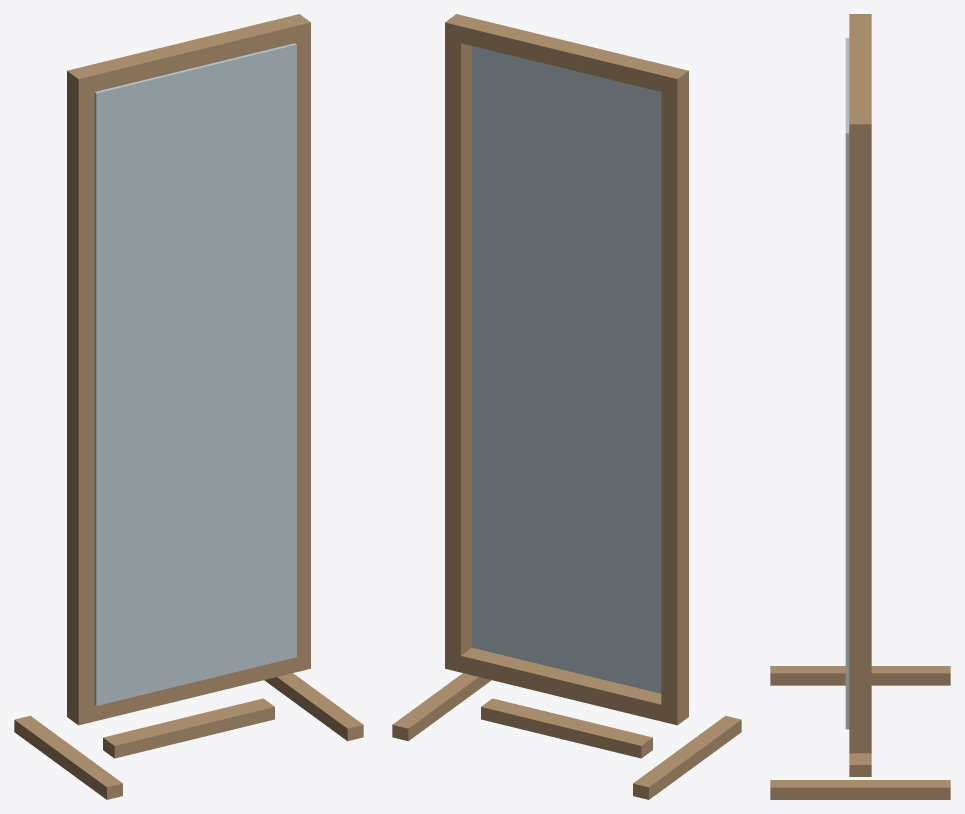
Rendered from standing-mirror.glb.
3 views of the same model, side by side, from view 1: azimuth 30°, elevation 25°; view 2: azimuth 150°, elevation 25°; view 3: azimuth 270°, elevation 25° (orthographic). The views are drawn at different scales.
Visible parts, largest first — view 1: standing-mirror_Cube.007, standing-mirror_Cube.003, standing-mirror_Cube.004, standing-mirror_Cube.005, standing-mirror_Cube, standing-mirror_Cube.006, standing-mirror_Cube.001, standing-mirror_Cube.002; view 2: standing-mirror_Cube.007, standing-mirror_Cube.003, standing-mirror_Cube.004, standing-mirror_Cube.005, standing-mirror_Cube.006, standing-mirror_Cube, standing-mirror_Cube.001, standing-mirror_Cube.002; view 3: standing-mirror_Cube.004, standing-mirror_Cube.002, standing-mirror_Cube.007, standing-mirror_Cube.001, standing-mirror_Cube.005, standing-mirror_Cube.
Part boxes in pixels (x1,y1,x2,y2): standing-mirror_Cube.007: (94, 43, 296, 705); standing-mirror_Cube.003: (67, 88, 94, 725); standing-mirror_Cube.004: (295, 39, 310, 672); standing-mirror_Cube.005: (67, 14, 310, 95); standing-mirror_Cube: (103, 698, 274, 758); standing-mirror_Cube.006: (94, 657, 294, 721); standing-mirror_Cube.001: (14, 715, 122, 799); standing-mirror_Cube.002: (264, 673, 363, 741); standing-mirror_Cube.007: (472, 46, 661, 693); standing-mirror_Cube.003: (661, 88, 688, 725); standing-mirror_Cube.004: (445, 39, 471, 672); standing-mirror_Cube.005: (445, 14, 688, 95); standing-mirror_Cube.006: (461, 647, 661, 721); standing-mirror_Cube: (481, 698, 652, 758); standing-mirror_Cube.001: (633, 715, 741, 799); standing-mirror_Cube.002: (392, 673, 491, 741); standing-mirror_Cube.004: (849, 140, 871, 753); standing-mirror_Cube.002: (770, 780, 950, 799); standing-mirror_Cube.007: (845, 38, 849, 729); standing-mirror_Cube.001: (770, 666, 950, 685); standing-mirror_Cube.005: (849, 14, 871, 140); standing-mirror_Cube: (849, 753, 871, 776).
Size of the model in its own units: 0.64 by 1.64 by 0.4.
